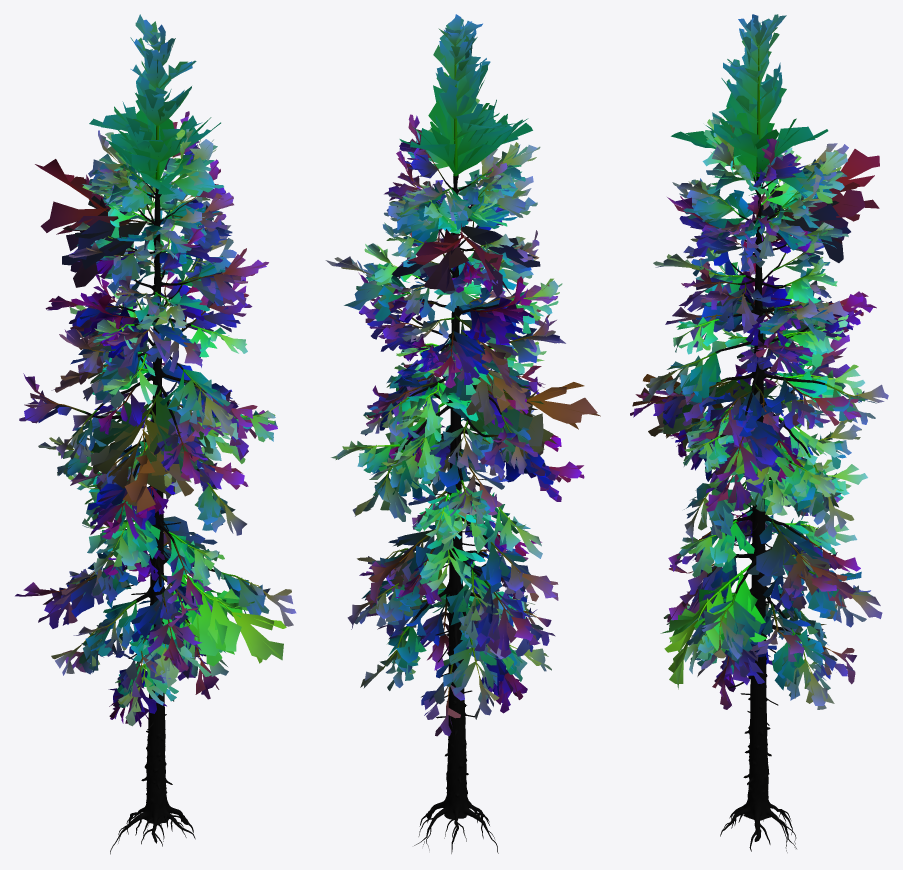
Rendered from SM_SilverFir_XL_02.fbx.
3 views of the same model, side by side, from view 1: azimuth 30°, elevation 25°; view 2: azimuth 150°, elevation 25°; view 3: azimuth 270°, elevation 25° (orthographic).
Visible parts, largest first — view 1: SM_SilverFir_XL_02_LOD0; view 2: SM_SilverFir_XL_02_LOD0; view 3: SM_SilverFir_XL_02_LOD0.
Boxes of the visible parts, x1,y1,x2,y2 form: SM_SilverFir_XL_02_LOD0: (15, 14, 296, 854); SM_SilverFir_XL_02_LOD0: (325, 14, 600, 853); SM_SilverFir_XL_02_LOD0: (630, 14, 888, 852).
Size of the model in its own units: 1273 by 1254 by 4435.
